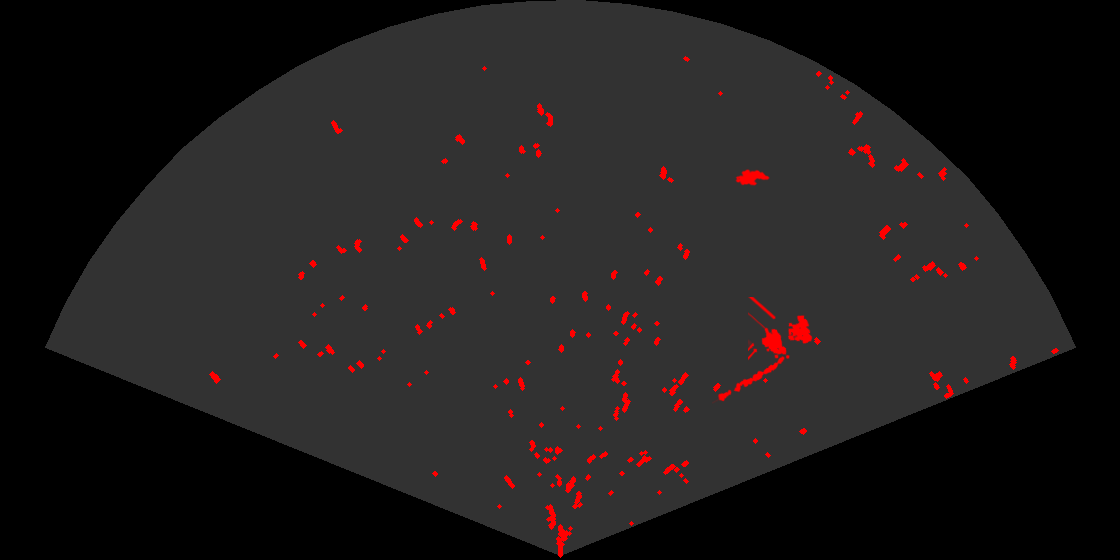AUV: (734, 168, 771, 187)
cage: (748, 297, 814, 362)
chain: (712, 355, 786, 405)
